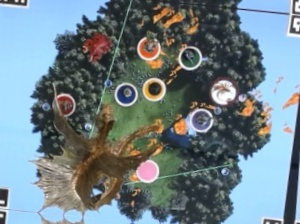blue: (111, 78, 141, 107)
green: (175, 42, 205, 71)
orange: (136, 32, 162, 61)
pink: (134, 155, 162, 183)
red: (48, 89, 76, 117)
violet: (185, 105, 217, 132)
yellow: (141, 72, 169, 102)
